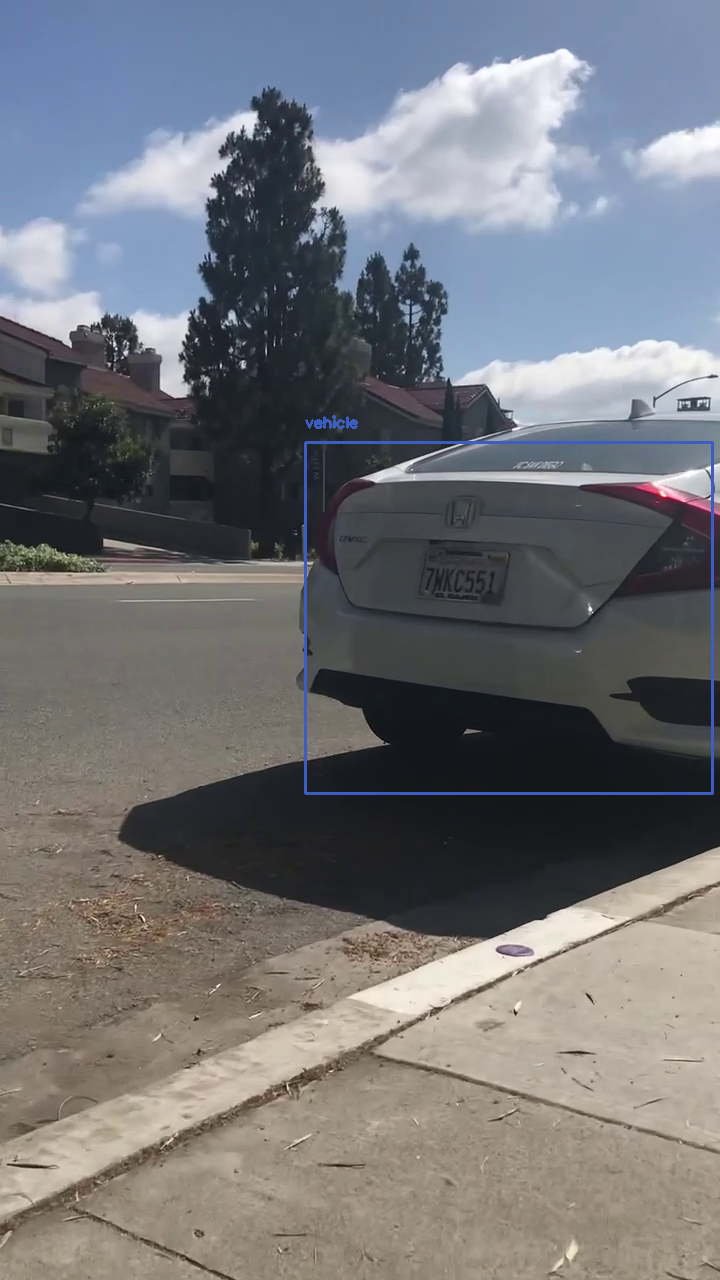vehicle: (305, 442, 712, 793)
